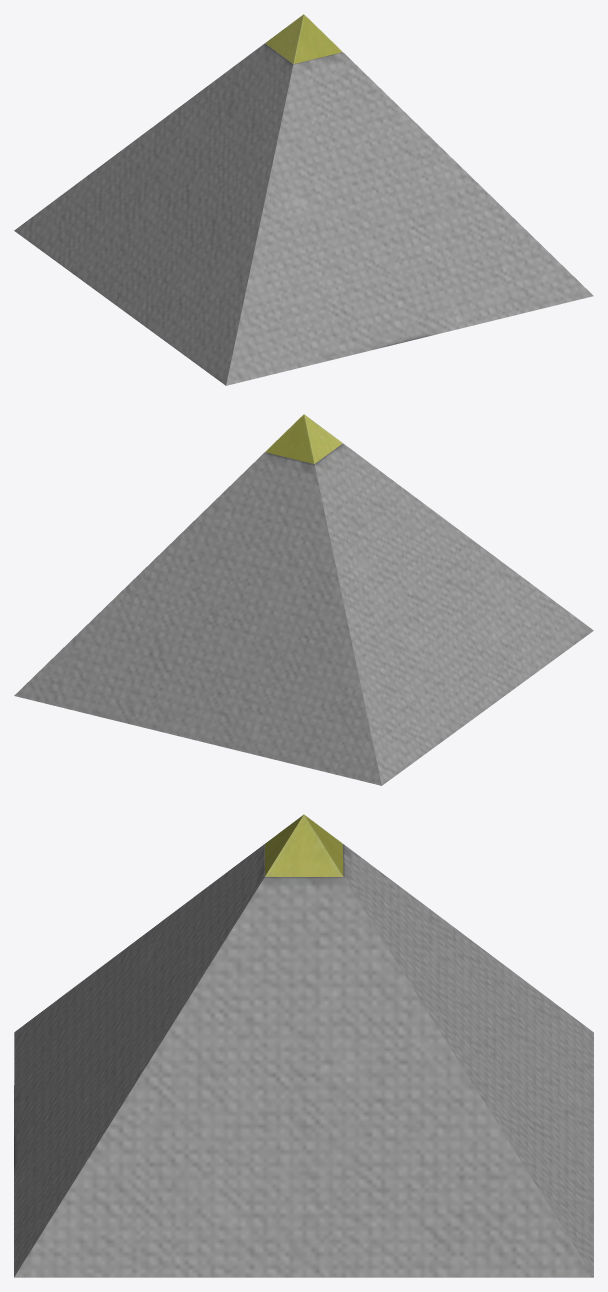
The model's file is Pyramids.glb.
3 views of the same model, one above another, from view 1: azimuth 30°, elevation 25°; view 2: azimuth 150°, elevation 25°; view 3: azimuth 270°, elevation 25° (orthographic). The views are drawn at different scales.
Parts seen in each view (by area): view 1: Plane001; view 2: Plane001; view 3: Plane001.
Part boxes in pixels (x1,y1,x2,y2): Plane001: [14, 14, 593, 385]; Plane001: [14, 414, 593, 785]; Plane001: [14, 814, 593, 1277].
Bounding box in the file's own units: 8.34 × 5.4 × 8.33.
1 material, 1 textured.
